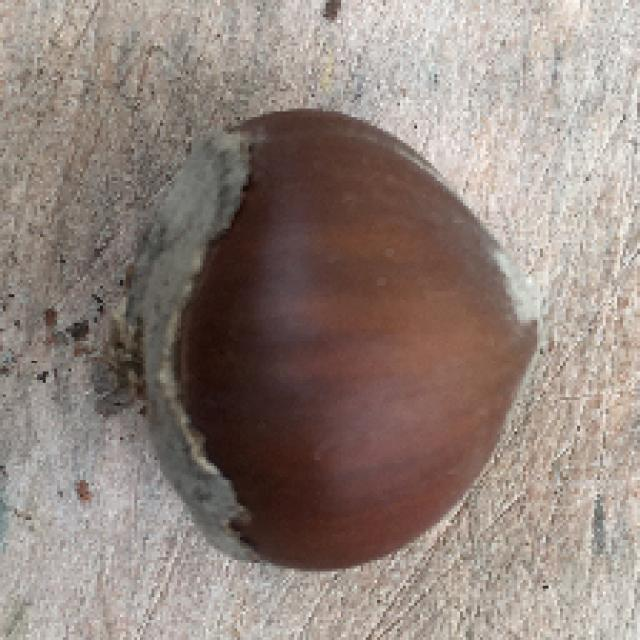damagedHazelnut: (101, 108, 546, 573)
